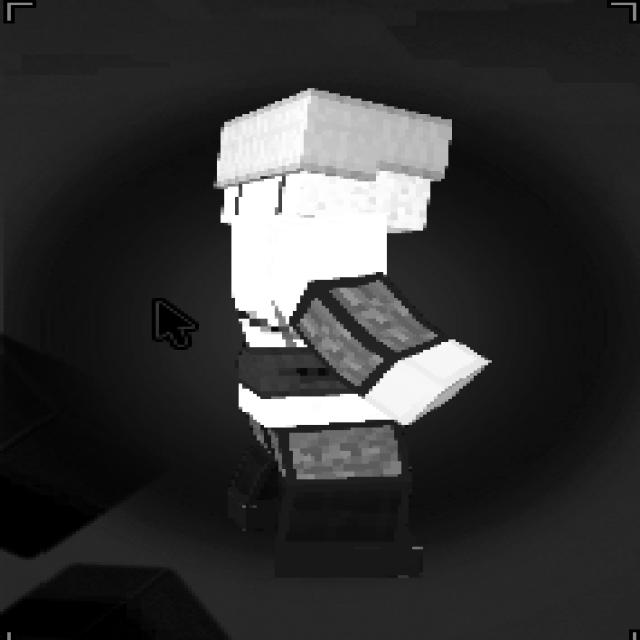Head: (213, 86, 453, 234)
Player: (209, 85, 492, 578)
